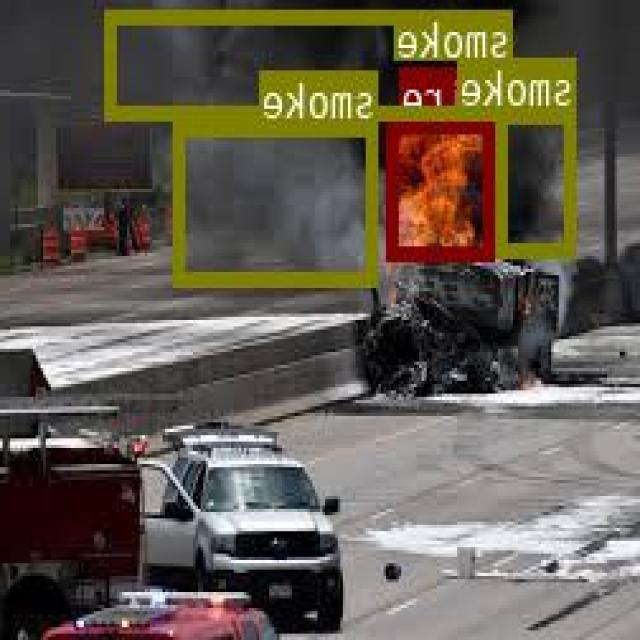fire: (390, 116, 496, 257)
smoke: (108, 8, 514, 116), (176, 120, 380, 283), (500, 108, 577, 254)
